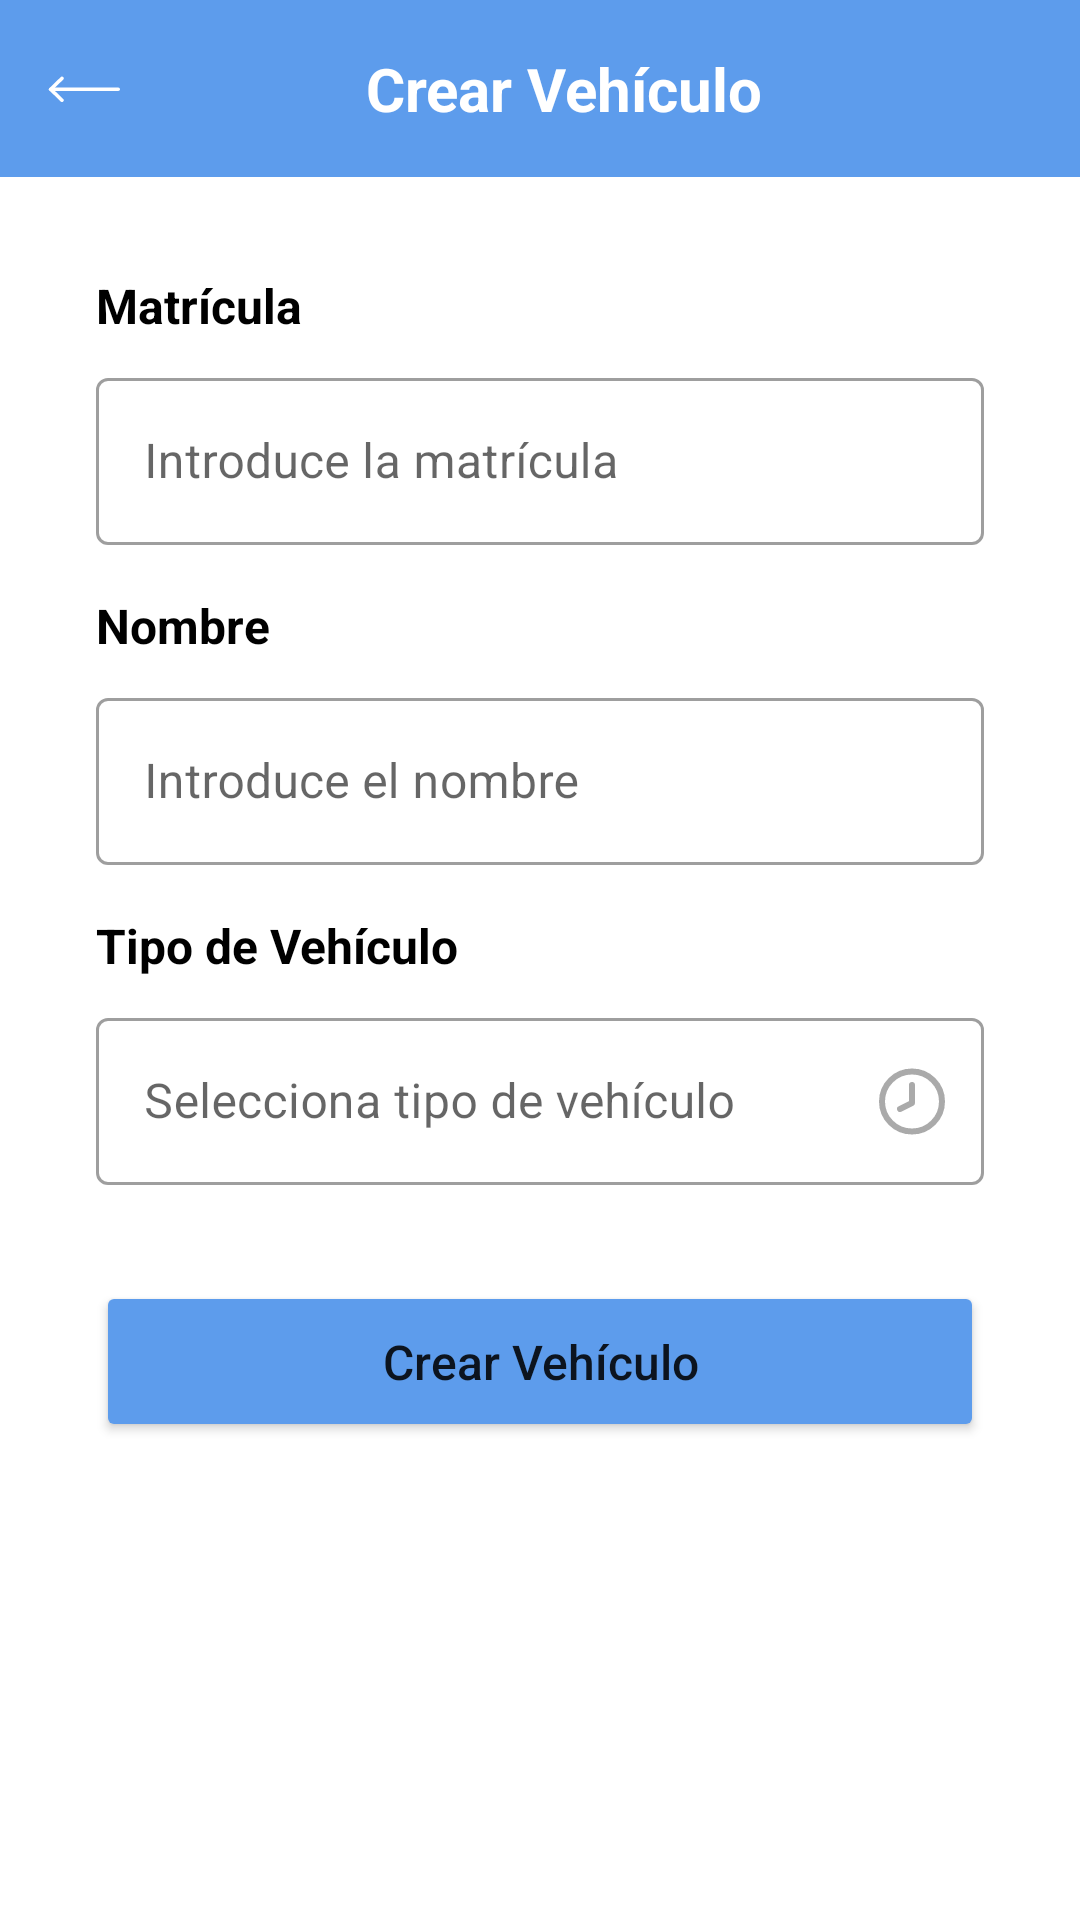

Icon click points for this 1080x1920 phone screenshot, format [x,y]:
Volver: [84,89]
